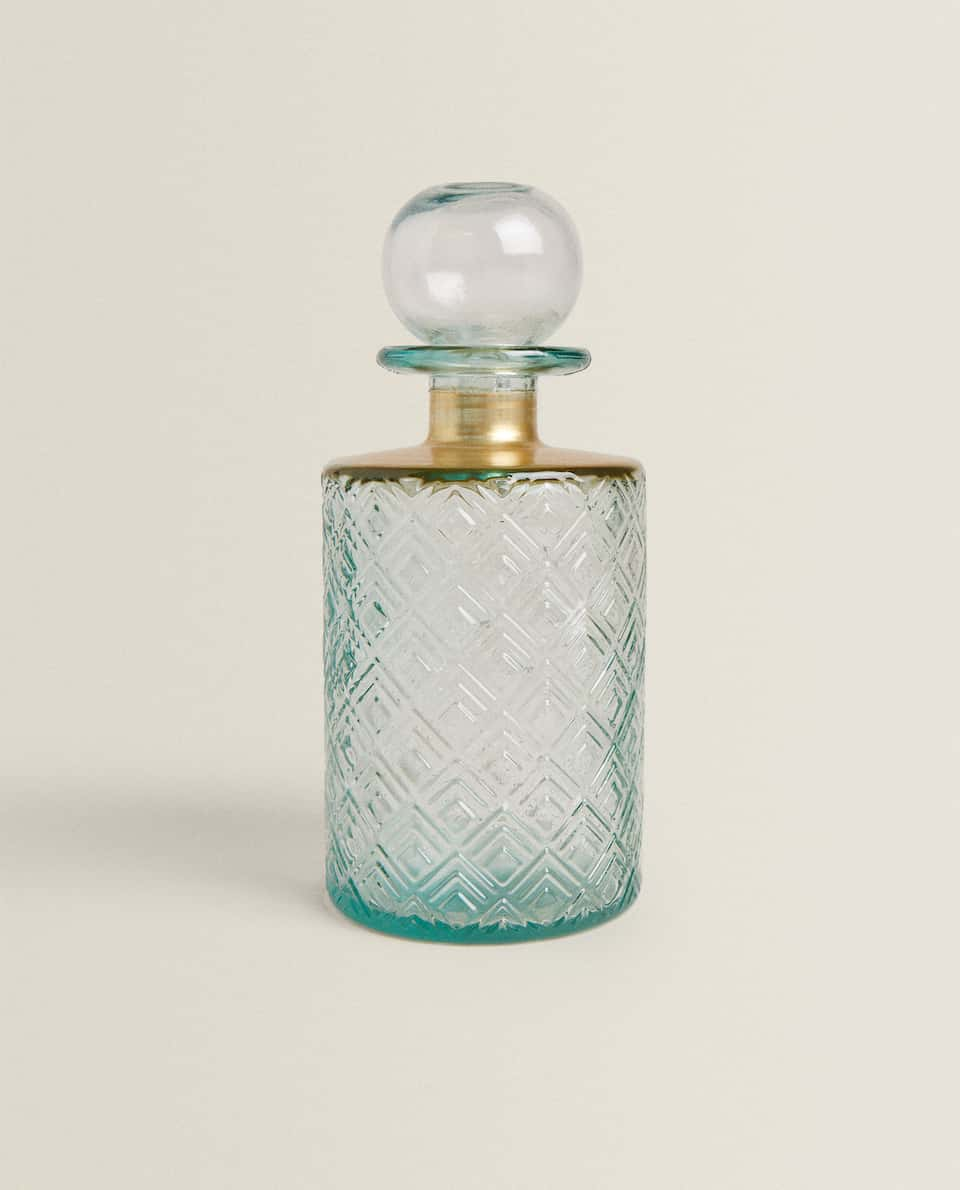glass_bottle: (309, 163, 657, 953)
